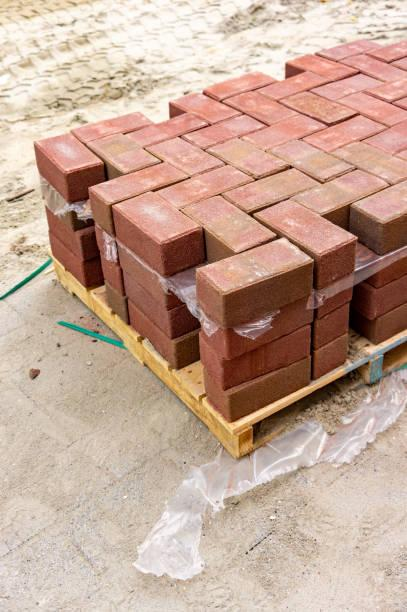Bricks: (200, 295, 314, 359), (203, 356, 313, 421), (197, 265, 311, 326), (111, 208, 204, 282), (205, 327, 312, 385), (257, 202, 354, 257), (206, 236, 304, 290), (114, 186, 201, 244), (184, 194, 271, 252), (225, 165, 322, 211), (157, 164, 254, 205), (301, 168, 386, 212), (97, 162, 185, 204), (279, 134, 350, 185), (249, 106, 328, 150), (215, 134, 291, 178), (340, 138, 406, 185), (121, 252, 173, 311), (95, 132, 157, 179), (135, 107, 203, 149), (353, 177, 406, 230), (187, 113, 265, 148), (128, 313, 178, 367), (120, 281, 169, 336), (39, 132, 98, 177), (232, 90, 303, 124), (309, 118, 385, 149), (288, 89, 354, 124), (260, 69, 333, 99), (177, 92, 242, 125), (71, 111, 149, 138), (314, 240, 354, 292), (210, 73, 278, 103), (315, 71, 380, 101), (50, 231, 85, 285), (344, 53, 406, 83), (314, 305, 354, 351), (291, 52, 354, 80), (367, 271, 406, 316), (47, 208, 79, 259), (311, 337, 350, 377), (32, 147, 63, 197), (322, 35, 379, 61), (363, 123, 406, 156), (313, 277, 353, 312), (172, 146, 218, 176), (354, 207, 382, 255), (371, 308, 406, 340), (152, 133, 191, 160), (369, 75, 406, 102), (91, 195, 112, 235), (104, 257, 124, 298), (380, 216, 406, 246), (374, 37, 406, 61), (97, 228, 117, 263), (105, 289, 123, 321)
